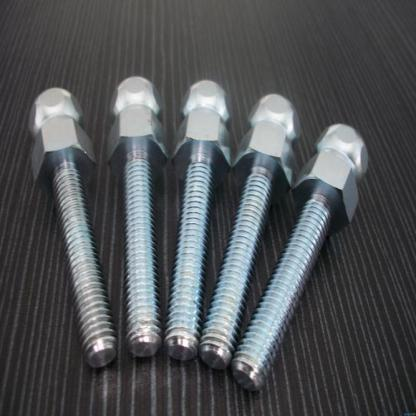FOD: (228, 122, 369, 394), (197, 88, 306, 368), (29, 87, 119, 371), (163, 79, 233, 364), (104, 75, 169, 361)
